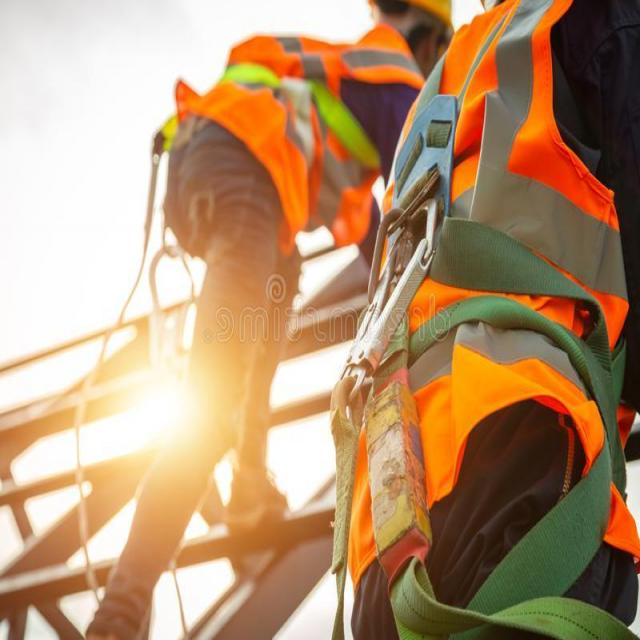Reflective-Jacket: (356, 0, 637, 624), (161, 15, 428, 262)
